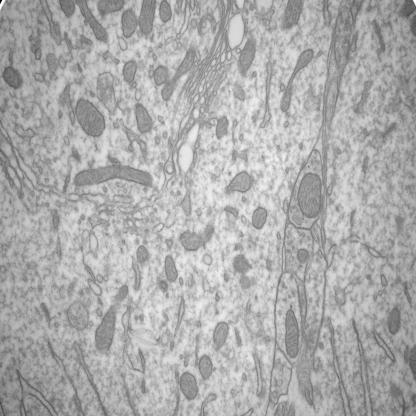mitochondria: (73, 161, 155, 192), (280, 49, 313, 113), (161, 49, 196, 101), (73, 0, 109, 42), (93, 303, 119, 358), (76, 97, 106, 140), (298, 171, 324, 219), (284, 308, 299, 358), (238, 38, 257, 74), (138, 0, 157, 36), (178, 370, 198, 402), (134, 102, 154, 134), (226, 170, 252, 193), (211, 321, 230, 352), (2, 64, 23, 90), (161, 253, 179, 283), (284, 0, 304, 27), (121, 9, 138, 40), (95, 0, 126, 16), (179, 230, 201, 252), (387, 306, 401, 336), (251, 206, 268, 230), (198, 355, 213, 381), (216, 115, 230, 140), (158, 0, 173, 23), (122, 60, 137, 83), (135, 245, 153, 264), (153, 64, 167, 86), (58, 0, 76, 17), (296, 246, 310, 263)
